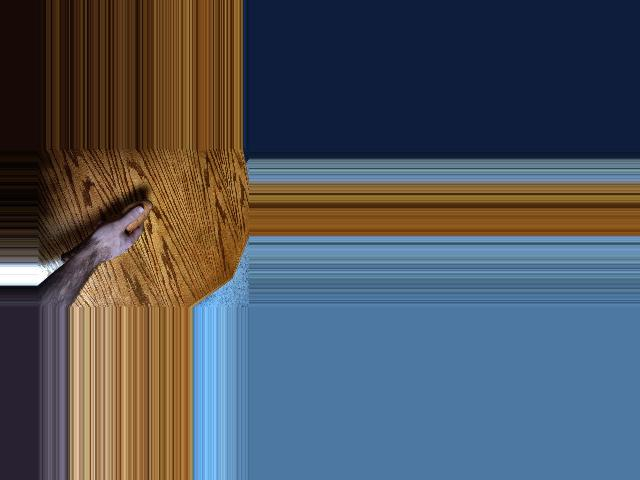sweet_potato: (59, 197, 154, 261)
